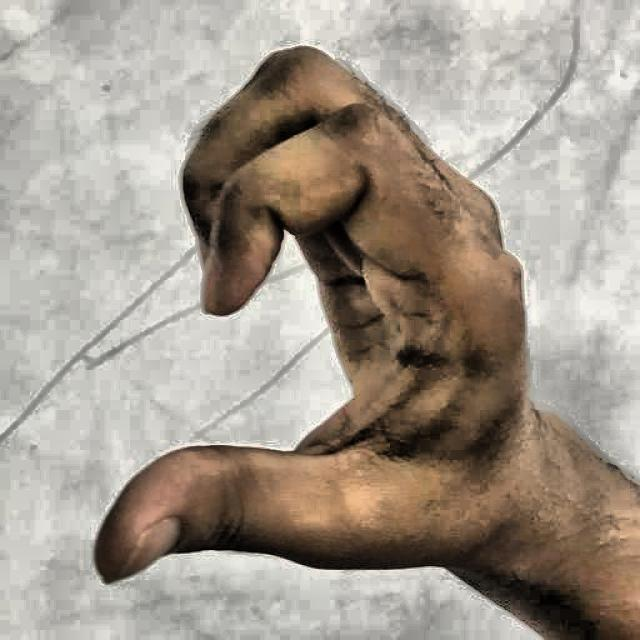Kha: (46, 25, 579, 622)
